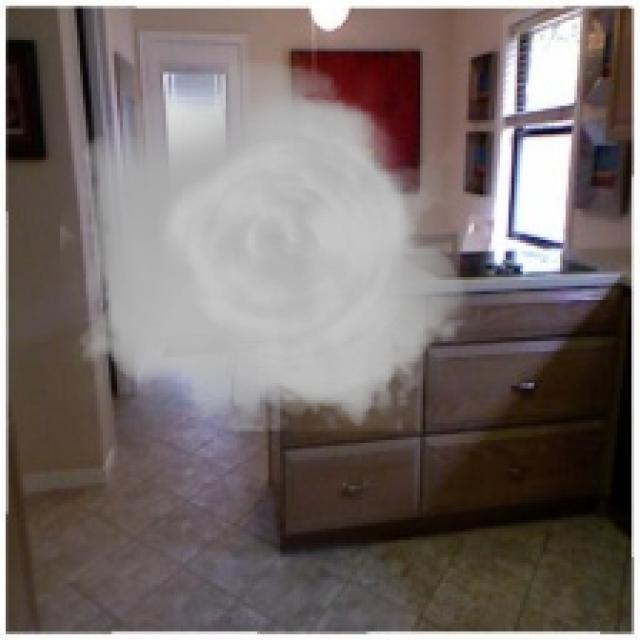smoke: (60, 60, 480, 431)
